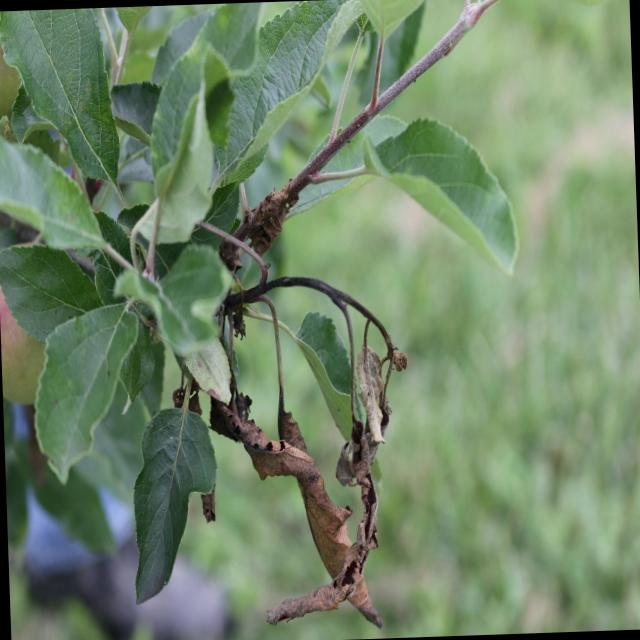-FireBlight-: (200, 273, 420, 640)
